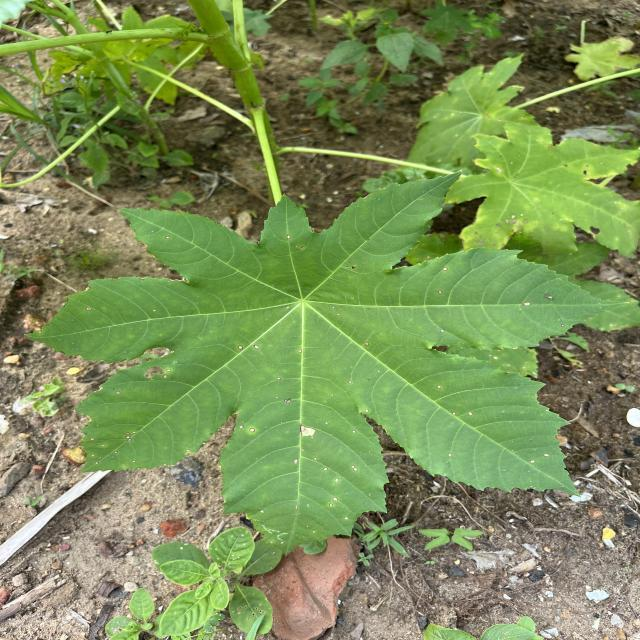Ricinus communis linn: (19, 167, 633, 560)
